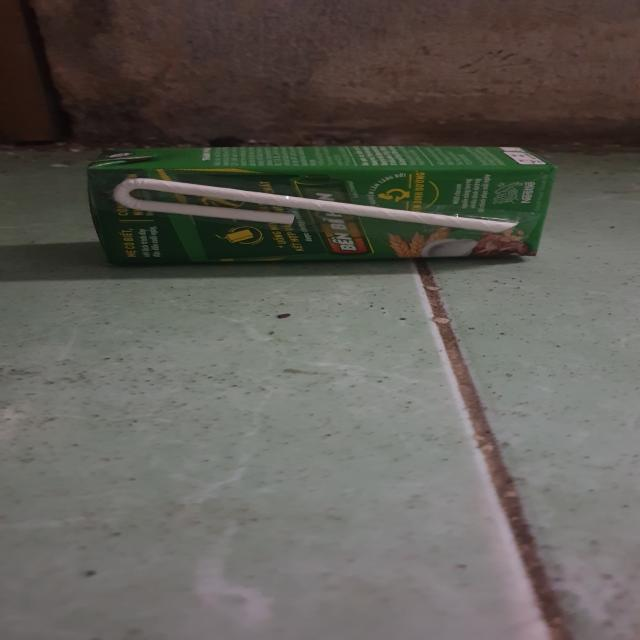Milo: (83, 144, 557, 266)
